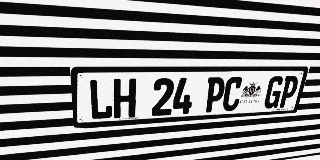2: (152, 78, 175, 116)
4: (172, 78, 195, 115)
C: (221, 77, 244, 112)
G: (262, 76, 285, 109)
H: (113, 78, 136, 119)
L: (88, 79, 113, 120)
P: (203, 77, 226, 113), (277, 76, 300, 108)
